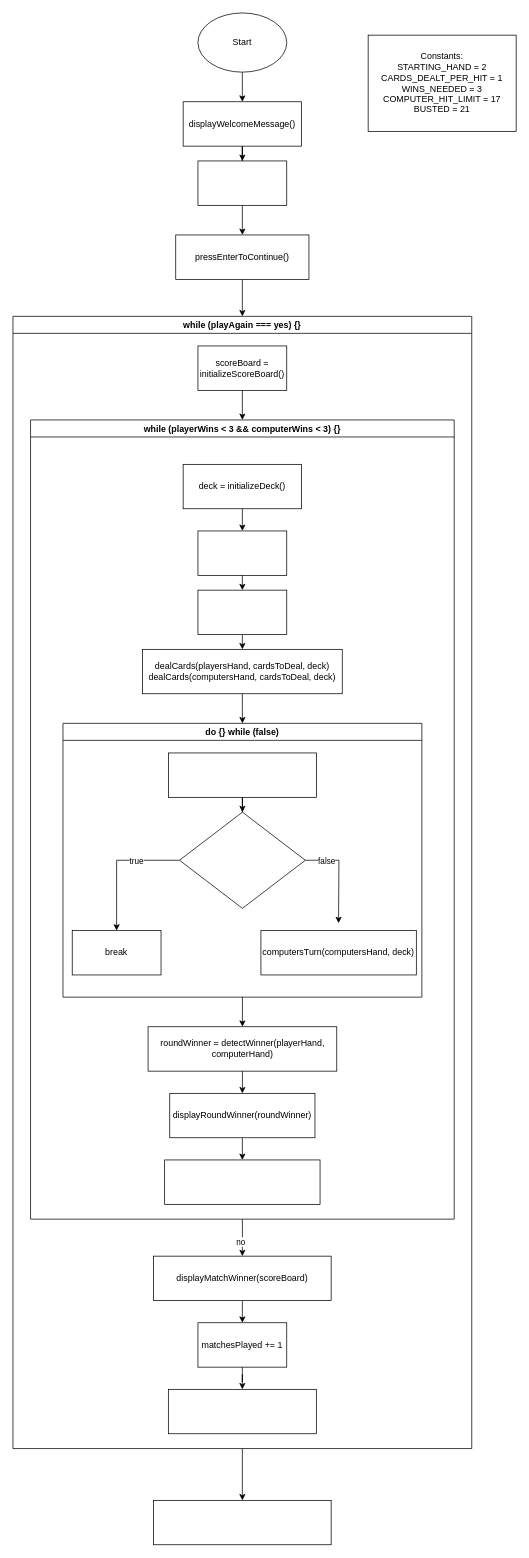
The diagram is 529 pixels wide and 1558 high, and some of its shapes have lost their labels. The centre of each missing label's shape, as x and y in pixels:
"displayGoodbyeMessage(matchesPlayed)" goes at [242,1522].
"isBusted(playerHand)" goes at [242,859].
"iterateScoreBoard(roundWinner)" goes at [242,1181].
"matchesPlayed = 0 playAgain = 'yes'" goes at [242,182].
"playAgain = getPlayAgain()" goes at [242,1411].
"playersHand = []; computersHand = [];" goes at [242,612].
"playersTurn(playersHand, deck)" goes at [242,774].
"shuffleDeck(deck)" goes at [242,552].
